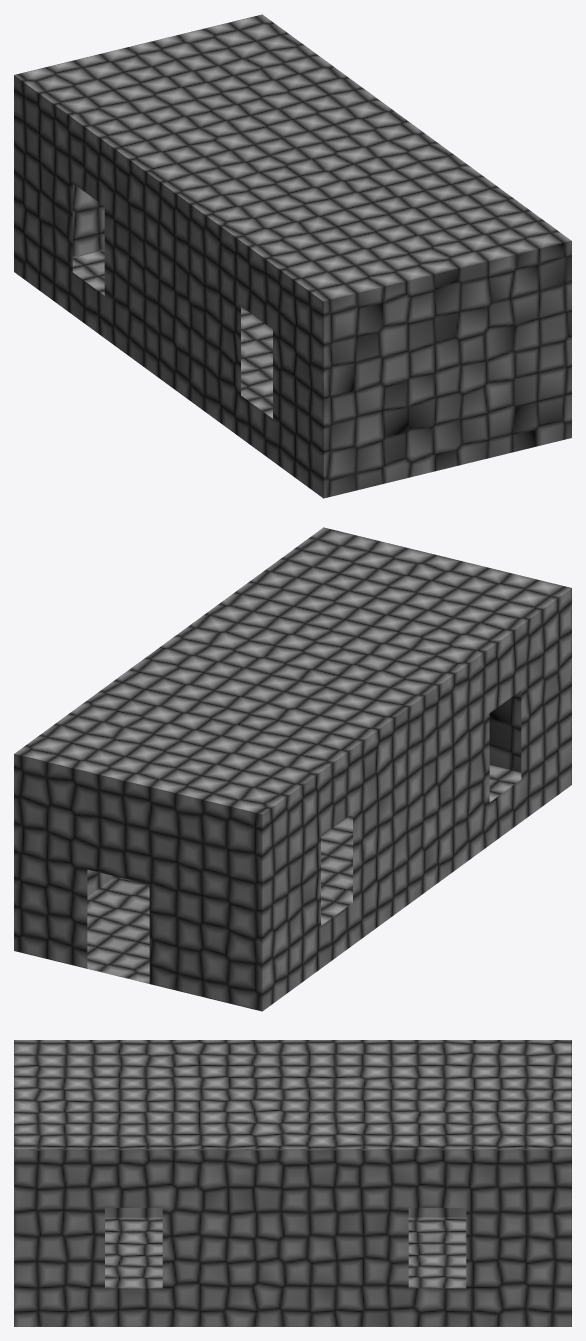
Rendered from room.glb.
3 renders of one model, top to bottom at view 1: azimuth 30°, elevation 25°; view 2: azimuth 150°, elevation 25°; view 3: azimuth 270°, elevation 25°, orthographic. The views are drawn at different scales.
Visible parts, largest first — view 1: wallsBaked; view 2: wallsBaked; view 3: wallsBaked.
Part boxes in pixels (x1=…): wallsBaked: x1=14, y1=14, x2=571, y2=498; wallsBaked: x1=14, y1=527, x2=571, y2=1011; wallsBaked: x1=14, y1=1040, x2=571, y2=1326.
Bounding box in the file's own units: 4.76 × 3.61 × 10.28.
1 material, 1 textured.
